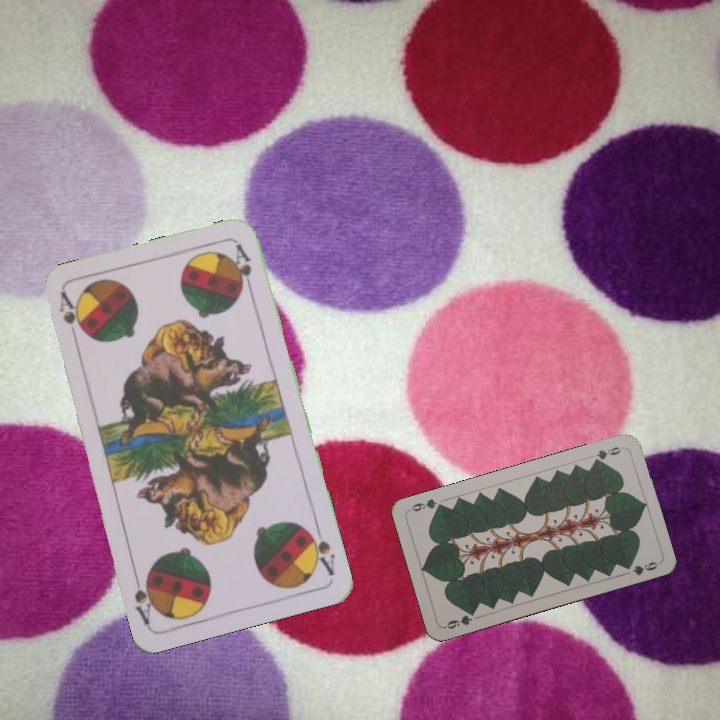G9: (440, 606, 478, 632), (589, 443, 623, 466)
SA: (302, 521, 338, 579), (55, 288, 85, 347)
